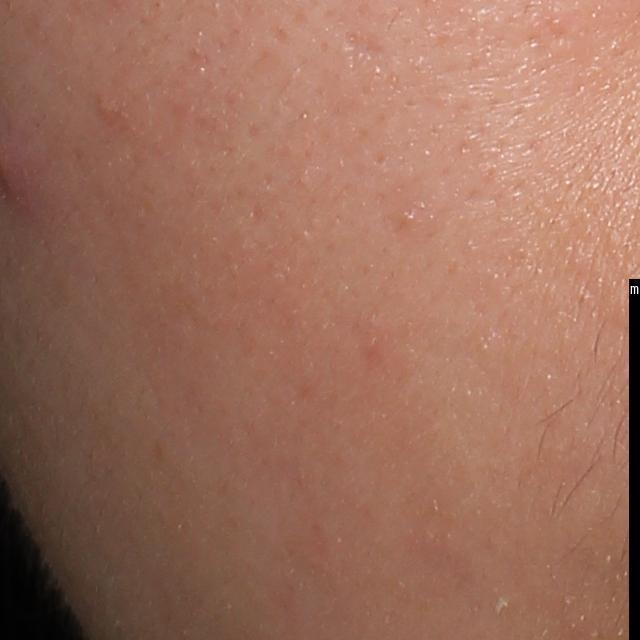papule: (92, 91, 125, 123)
